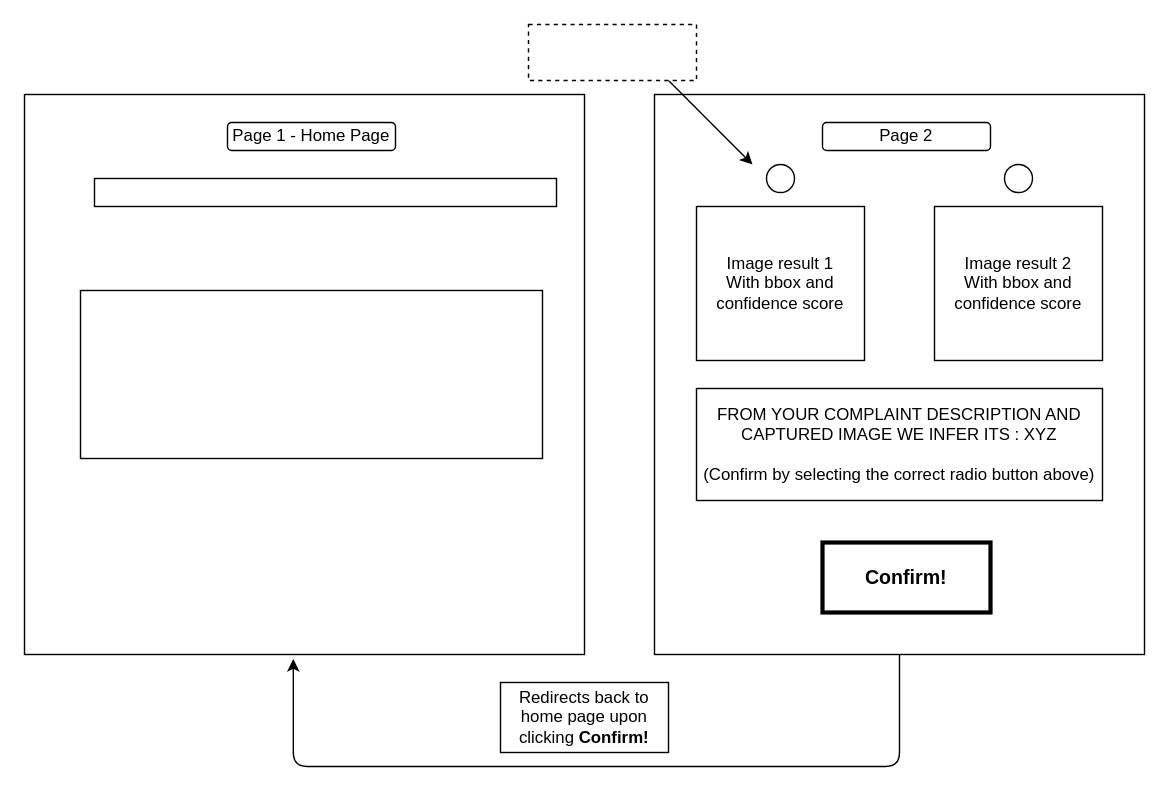
The diagram is 1169 pixels wide and 802 high, and some of its shapes have lost their labels. Here are the shapes that lost their labels. From the top down, the centre of each, then its label:
point 611,51: Radio button
point 324,191: CHOOSE FILE HERE (LOCALLY) :
point 310,373: TYPE COMPLAINT IN WORDS HERE :
